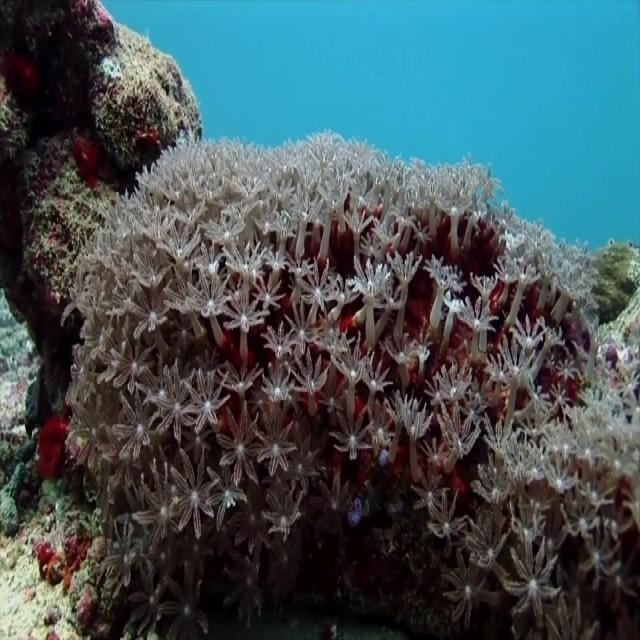reefs: (37, 127, 639, 639)
sea-floor: (0, 0, 203, 477)
